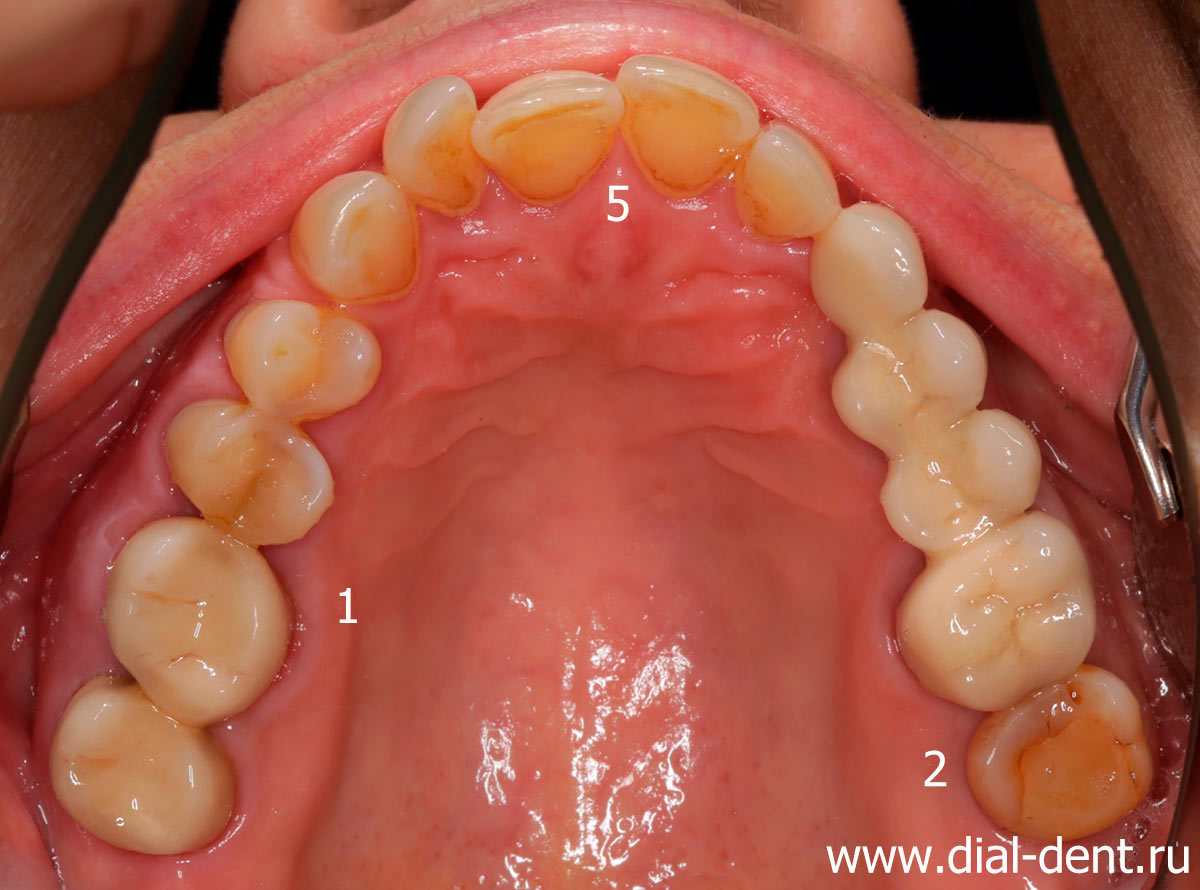UL1BC_healthy: (830, 312, 984, 438)
UL1M_healthy: (902, 519, 1095, 708)
UL2BC_healthy: (884, 411, 1039, 546)
UL2M_decay: (971, 667, 1150, 832)
ULCI_decay: (623, 56, 758, 195)
ULC_healthy: (812, 203, 927, 333)
ULLI_healthy: (756, 124, 838, 241)
UR1BC_healthy: (233, 299, 381, 416)
UR1M_healthy: (110, 518, 284, 723)
UR2BC_decay: (176, 404, 335, 545)
UR2M_healthy: (53, 685, 214, 856)
URCI_decay: (477, 73, 622, 194)
URC_healthy: (300, 170, 415, 298)
URLI_decay: (385, 77, 476, 209)
